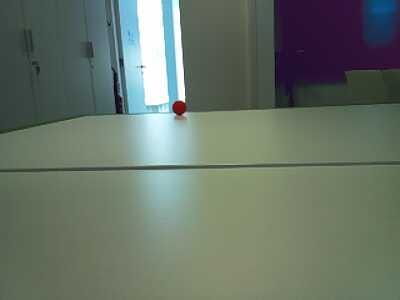bola_lejos: (172, 101, 187, 119)
